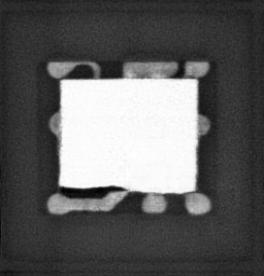DIE_BROKEN: (57, 183, 129, 193)
